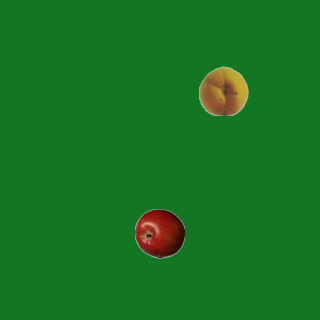Apple Braeburn: (134, 208, 184, 258)
Peach 2: (198, 65, 248, 115)
